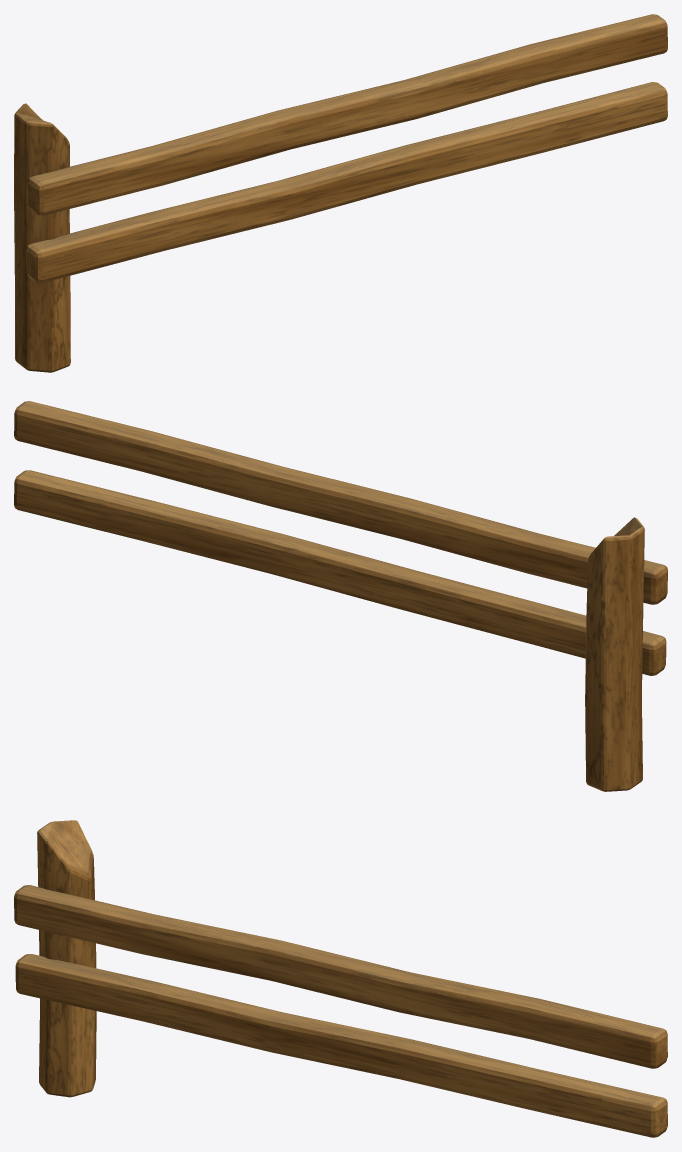
Rendered from rail_fence.glb.
3 renders of one model, top to bottom at view 1: azimuth 30°, elevation 25°; view 2: azimuth 150°, elevation 25°; view 3: azimuth 330°, elevation 25°, orthographic.
Parts seen in each view (by area): view 1: rail_fence; view 2: rail_fence; view 3: rail_fence.
Part boxes in pixels (x1,y1,x2,y2): rail_fence: [14, 14, 667, 372]; rail_fence: [14, 401, 667, 791]; rail_fence: [14, 820, 667, 1137].
Size of the model in its own units: 2.64 by 1 by 0.2922.
Materials: 1 (1 with a texture image).
